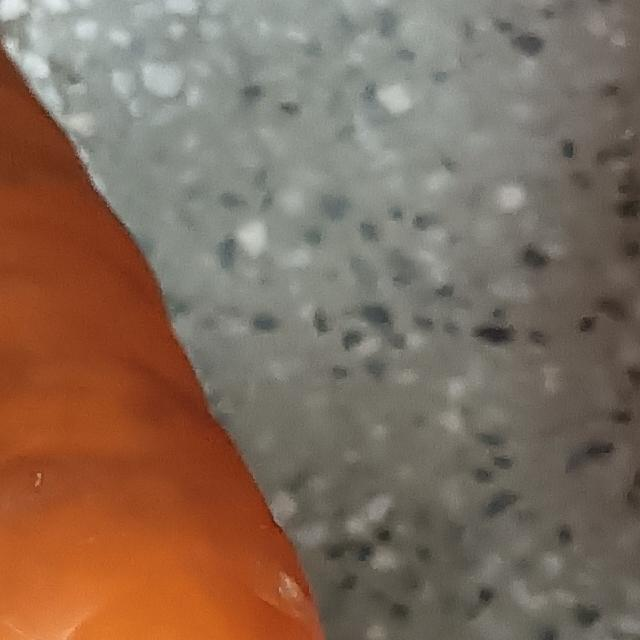carrot: (1, 1, 350, 640)
